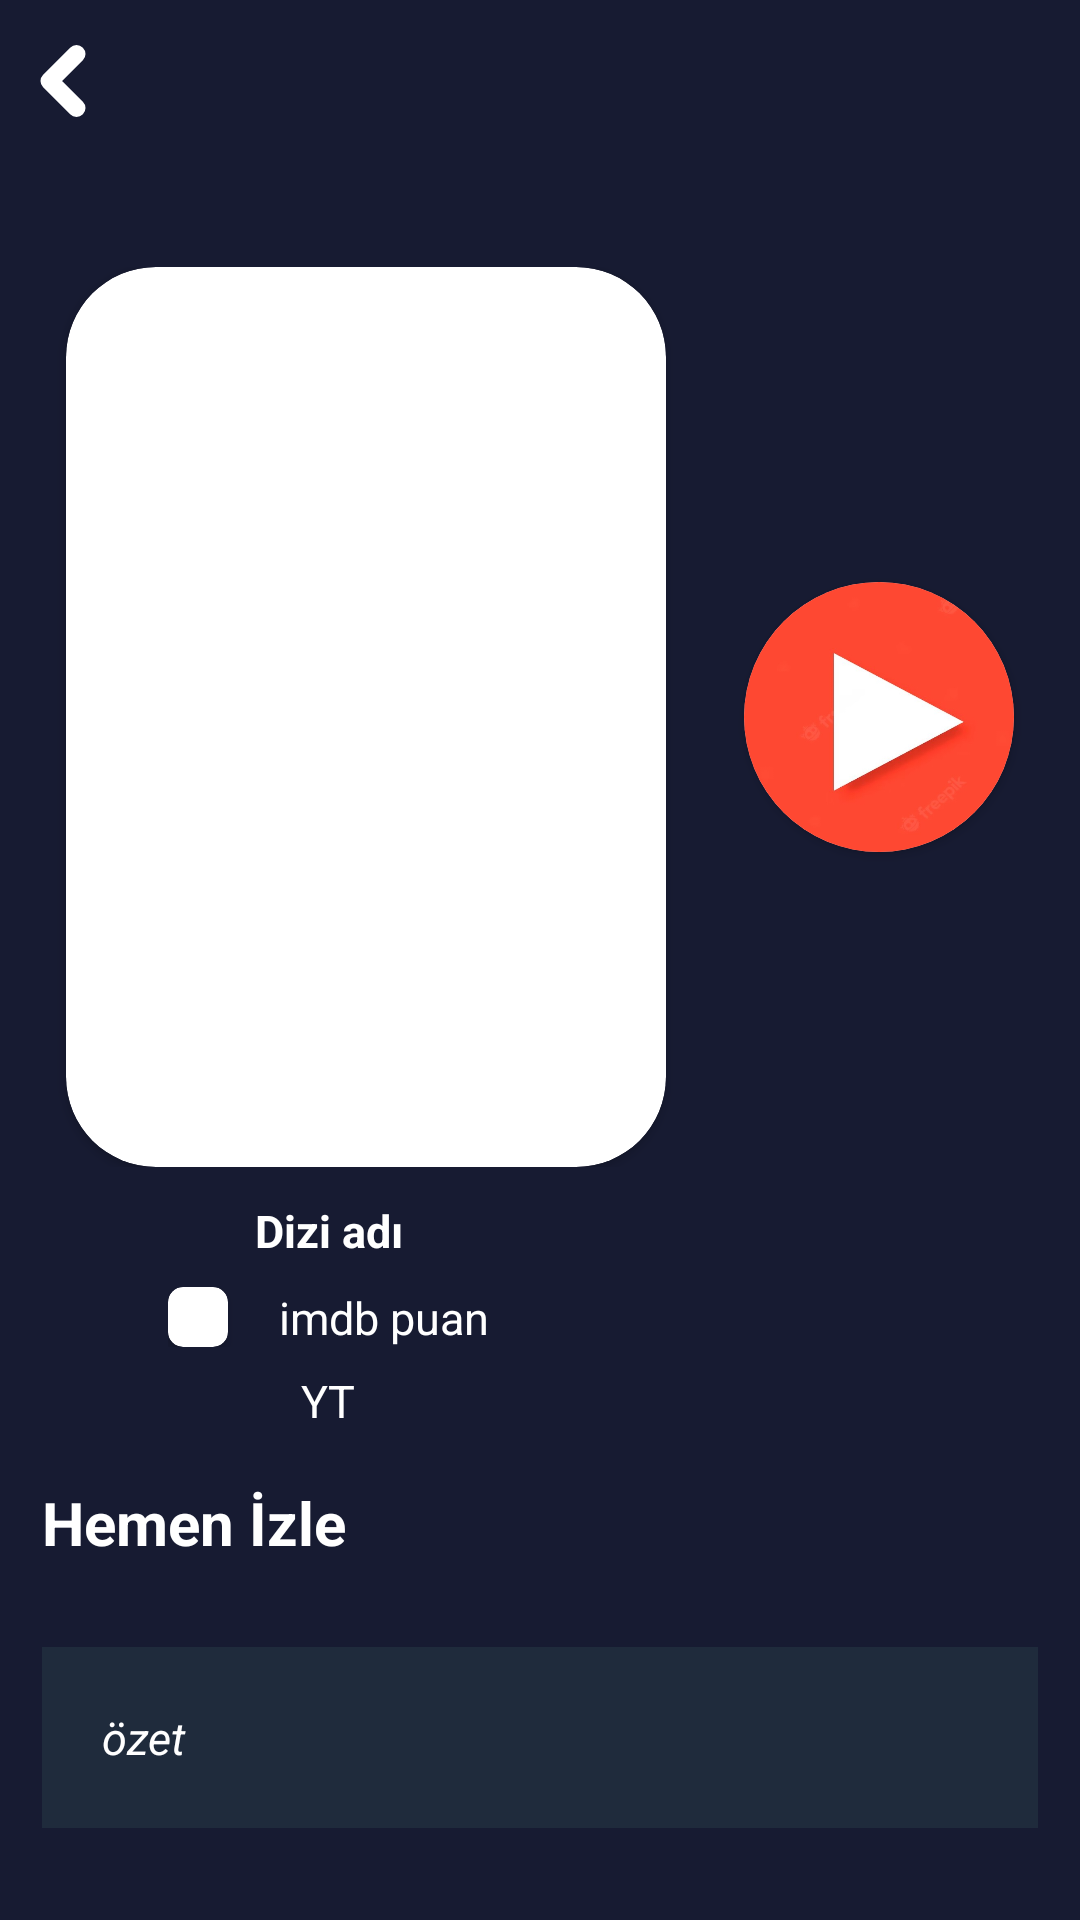

Where icons sit on this 1080x1920 app screen, as (x1=x1, y1=y1, x2=x2, y2=y2):
back: (x1=40, y1=45, x2=86, y2=117)
playredd: (x1=744, y1=582, x2=1014, y2=852)
